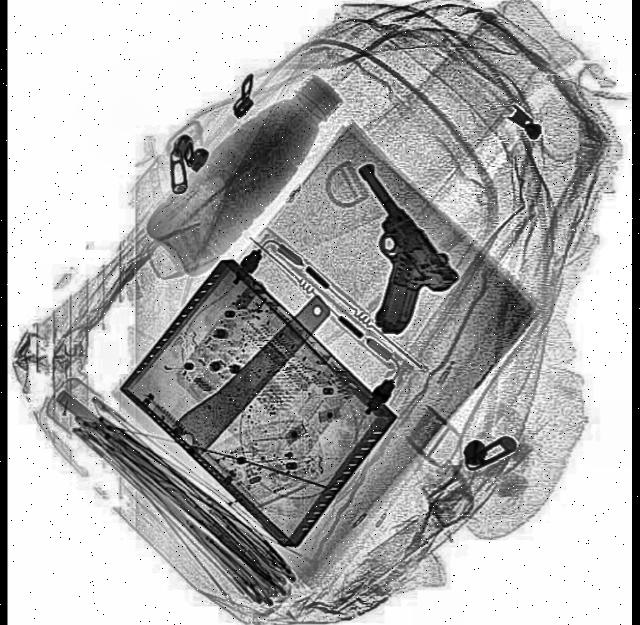Gun: (302, 156, 466, 344)
